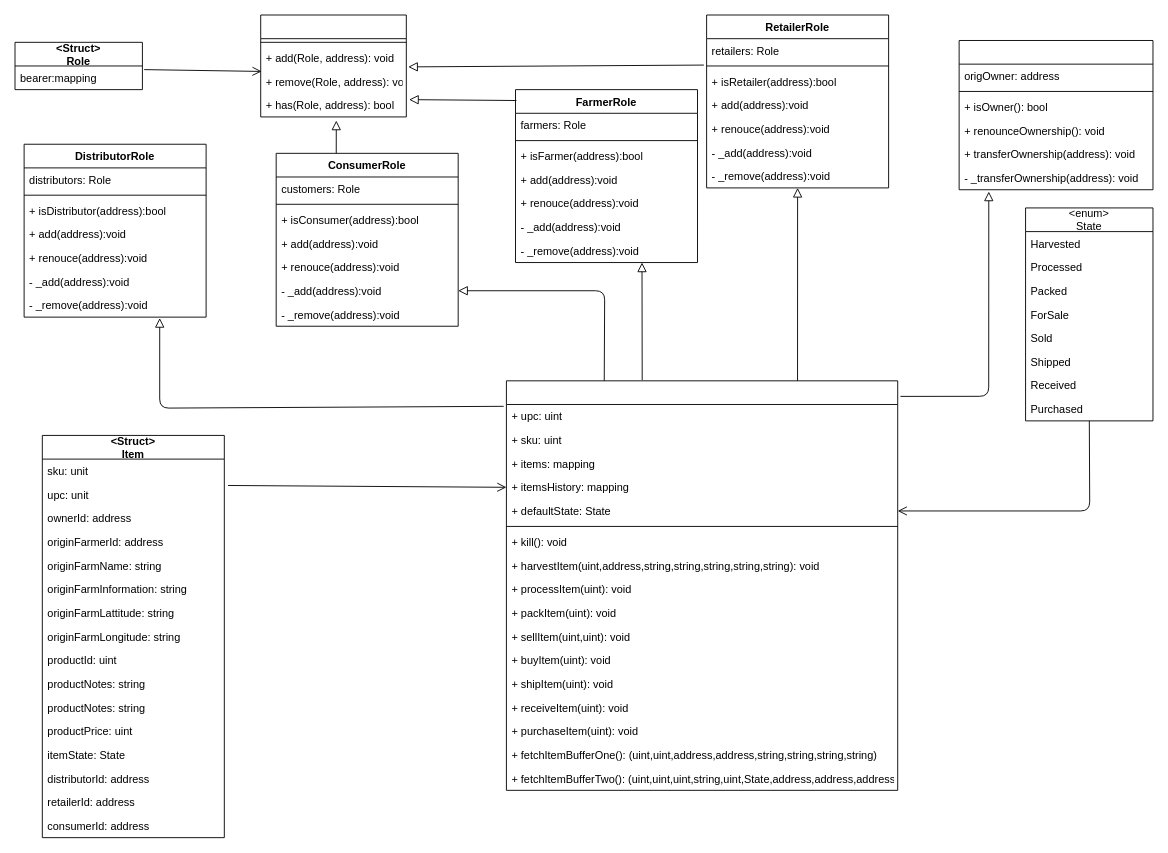
This 1168x853 diagram has some shape labels left out. The shapes that lost their labels are listed below. From the top down, each one's box as (x1, y1, x2, y2) in pixels, then its label:
(260, 14, 406, 117): Roles
(958, 40, 1153, 190): Ownerable
(506, 380, 898, 790): SupplyChain
